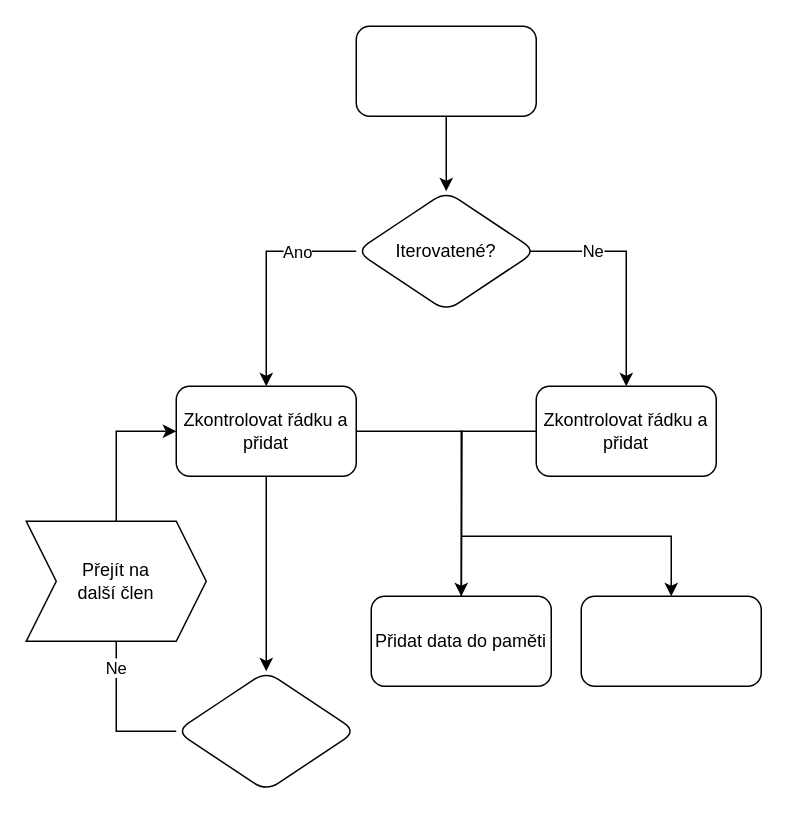
Image size: 788x818. Some labels were removed from this diagram. Here are the shapes that lost their labels. From the top down, the centre of each, then its label:
At [445,70]: "add_text".
At [670,640]: "Přidat ke kontrolní proměnné 1".
At [265,730]: "Je to vše?".
